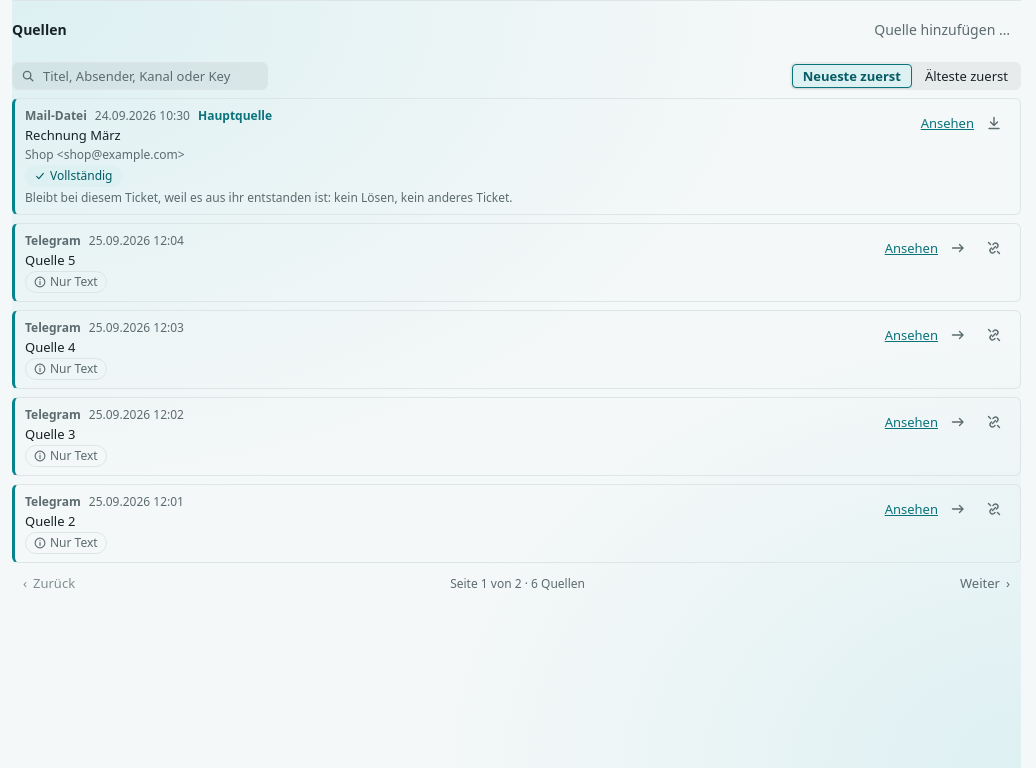
Test: TicketSources in pages (TD-1) › goes back to page 1 when the only source of page 2 is released, the focus at its start
Click the button named "Weiter zur nächsten Seite der Quellen": click(985, 583) [949, 571, 1021, 595]
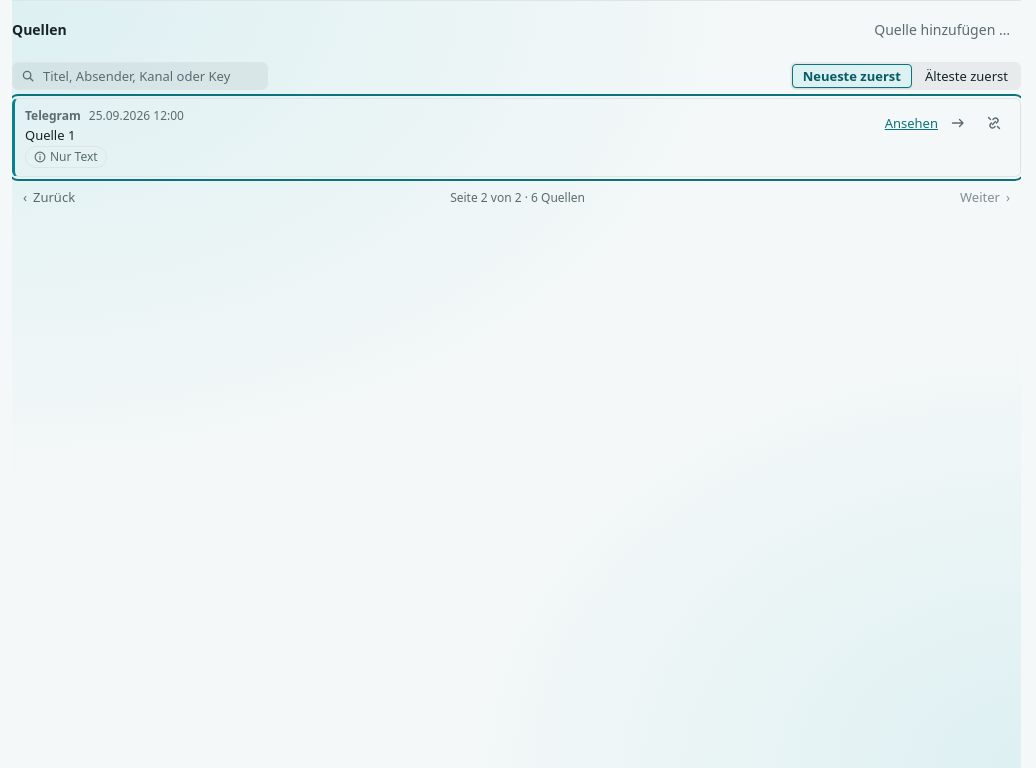
Click the button named "„Quelle 1“ lösen": click(994, 123) [978, 107, 1010, 139]
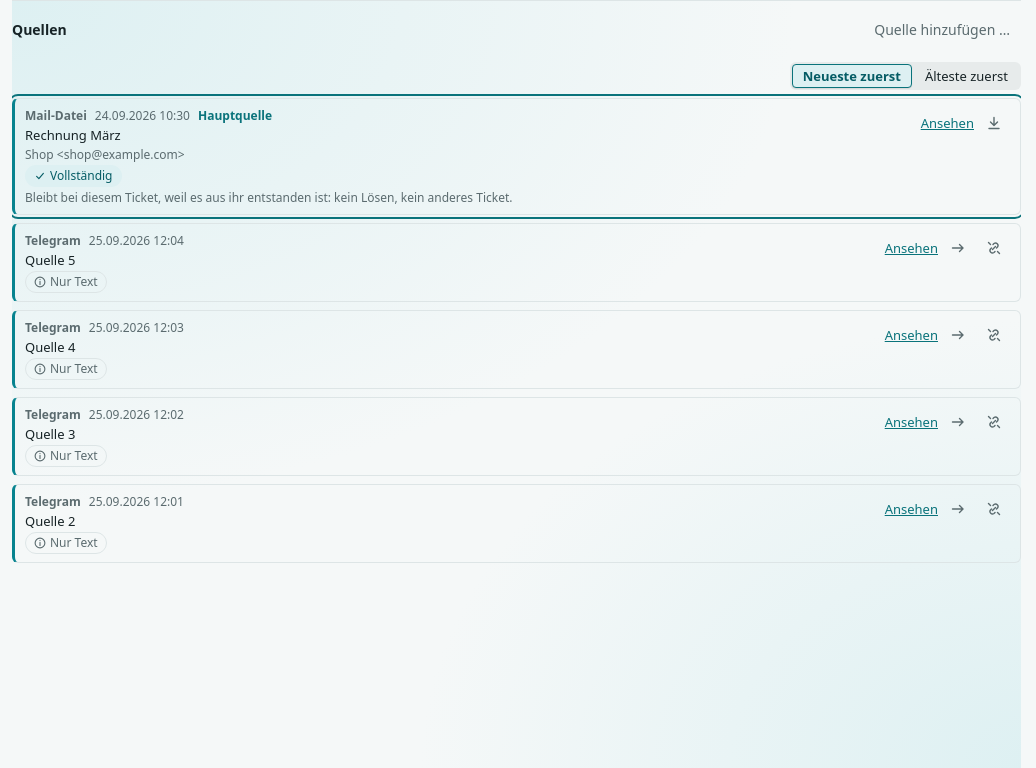
Check: the text with class "title" reads "Rechnung März", box [25, 126, 121, 144]
Check: the list item that starts with "Mail-Datei" shows "Rechnung März", box [25, 126, 121, 144]
